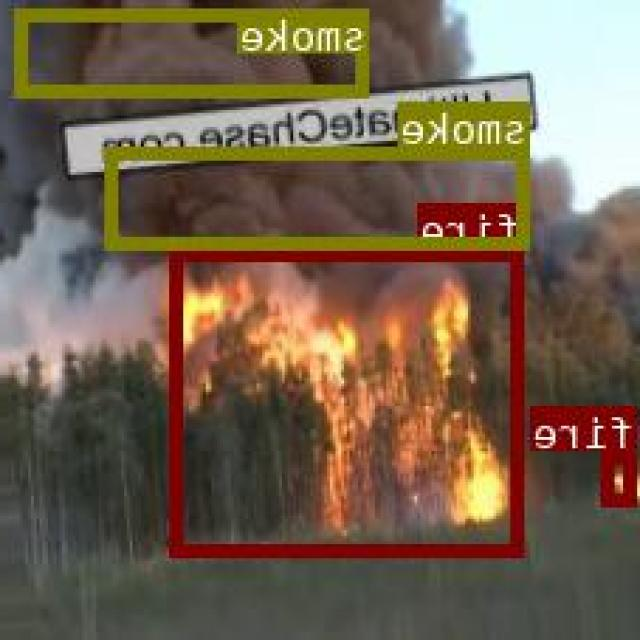fire: (173, 246, 526, 555), (605, 451, 638, 502)
smoke: (108, 144, 531, 247), (17, 7, 371, 94)
